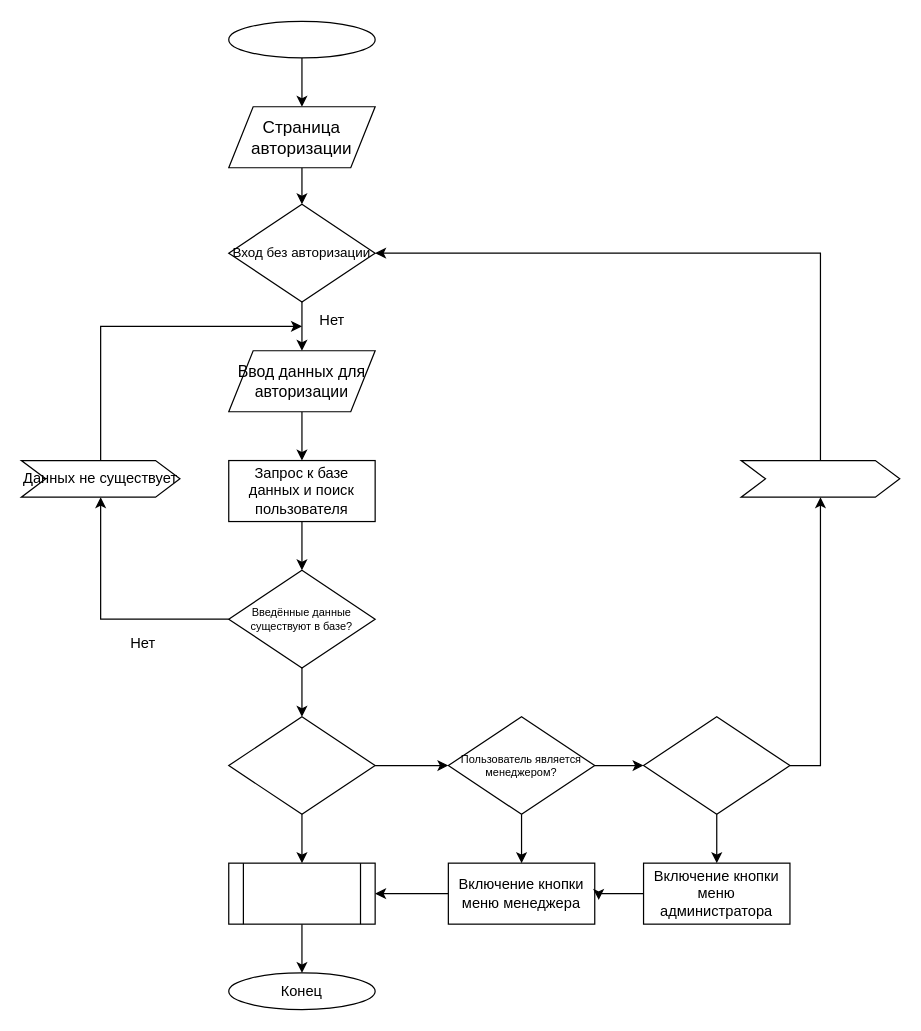
Some shapes in this 921 by 1031 pixel diagram are drawn without their labels. The centre of each missing label's shape, as x and y in pixels:
Данной роли не существует: the point at 820,478
Начало: the point at 301,39
Пользователь является авторизированным клиентом?: the point at 301,765
Пользователь является администратором?: the point at 716,765
Страница просмотра товаров: the point at 301,893
